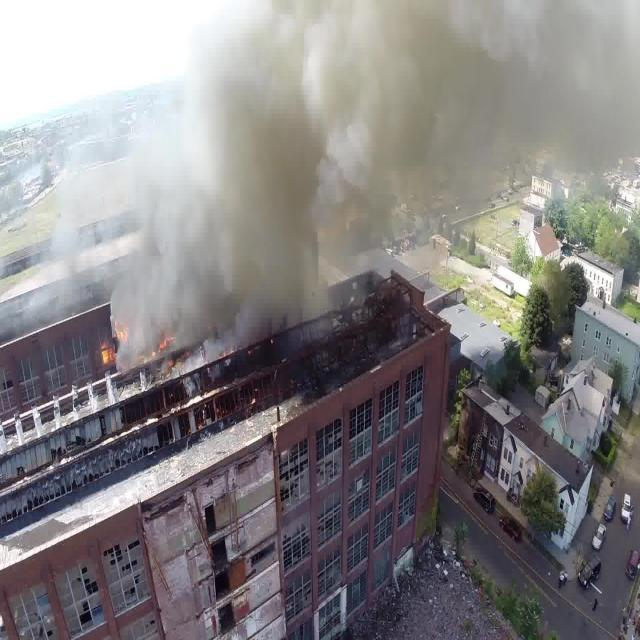Fire: (150, 330, 180, 360), (100, 342, 118, 372), (113, 321, 131, 342)
Smoke: (114, 2, 639, 314)
